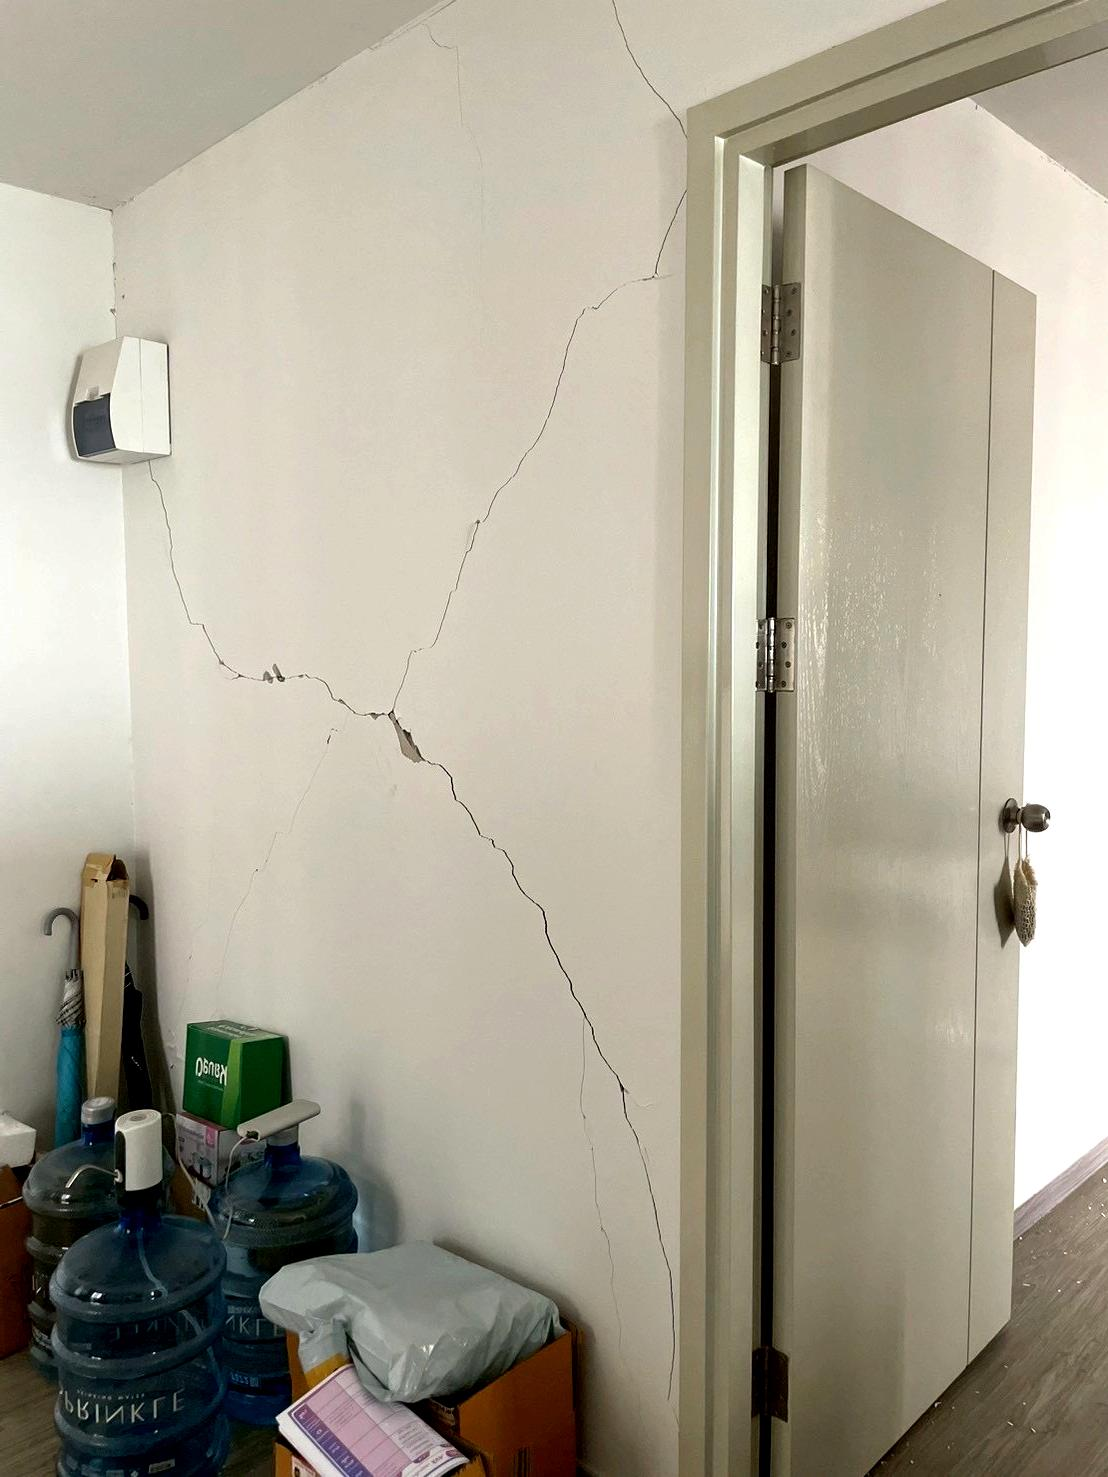High: (185, 10, 682, 1028)
